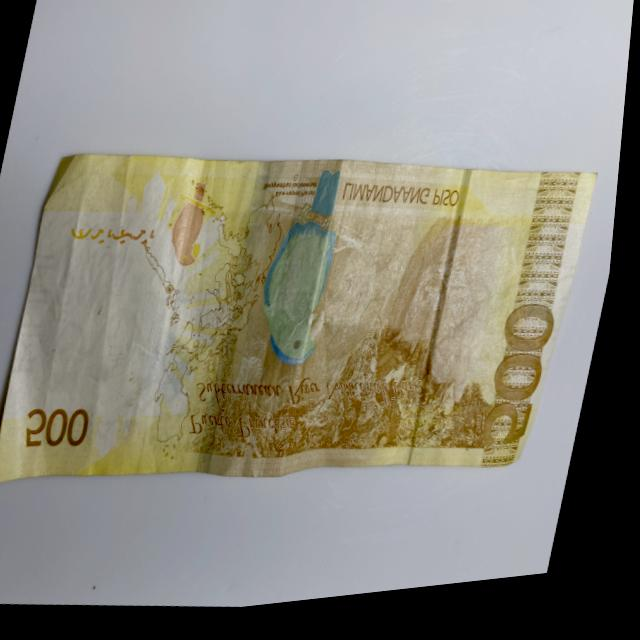500_big_parrot: (256, 170, 361, 375)
500_parrot_watermark: (168, 185, 226, 276)
value_watermark: (55, 271, 84, 327)
